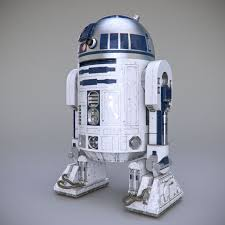r2d2: (52, 13, 184, 218)
